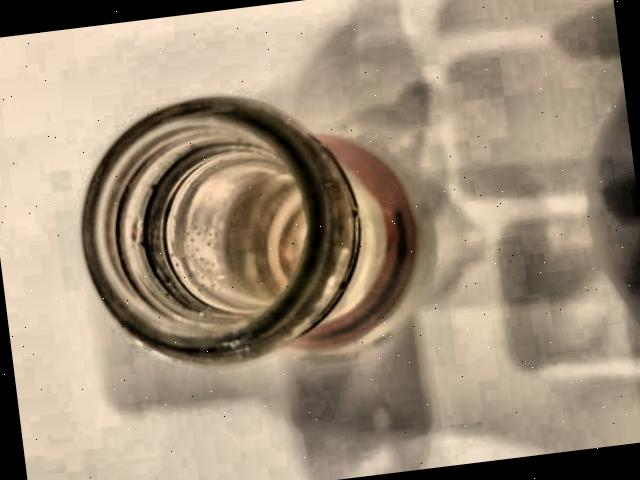Bottles: (39, 57, 460, 404)
